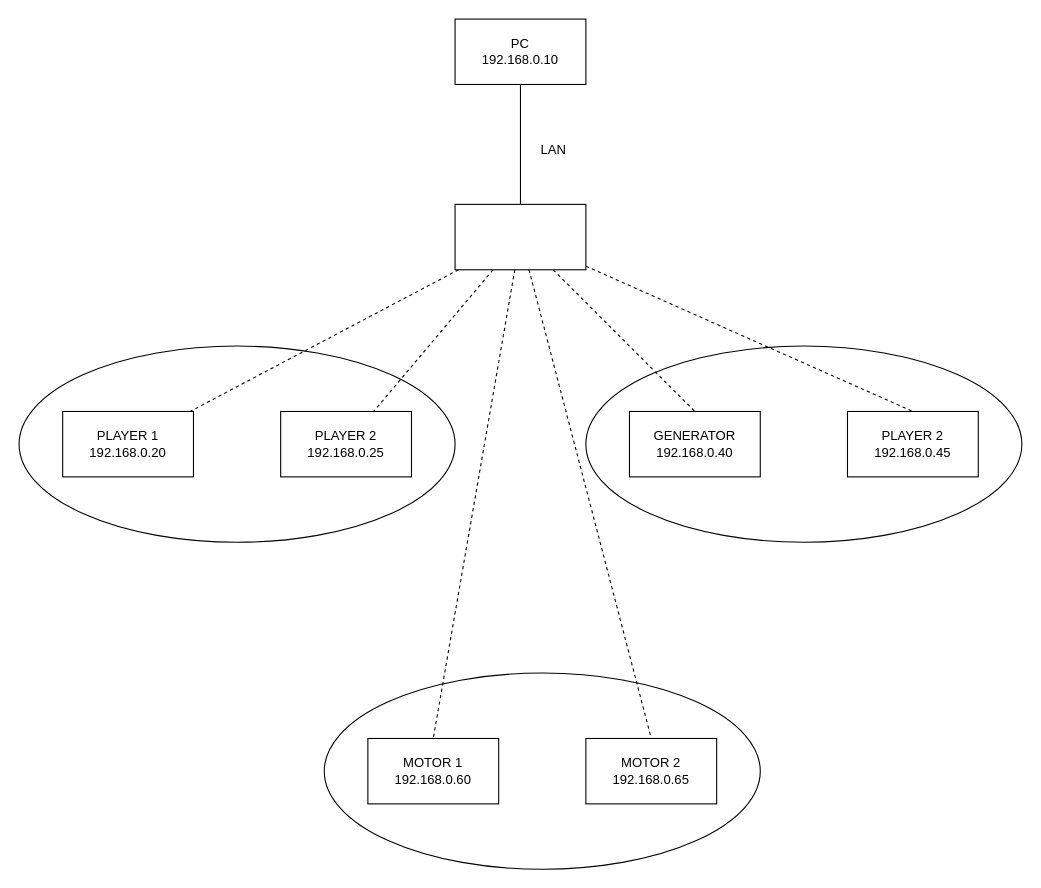
This 1041x888 diagram has some shape labels left out. The box of each missing label's shape, as (x1, y1, x2, y2) in pixels:
GENERATOR (40): (585, 345, 1022, 542)
MOTOR (60): (323, 672, 760, 869)
PLAYER (20): (18, 345, 455, 542)
ROUTER 192.168.0.1: (454, 203, 586, 270)
